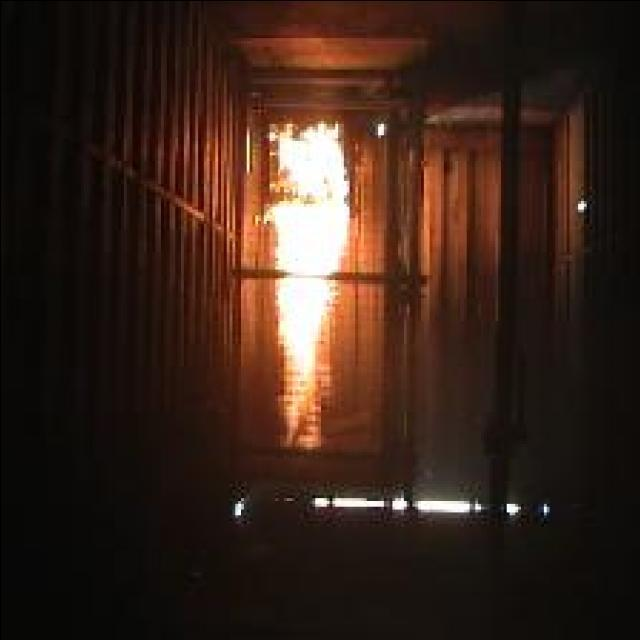Fire: (262, 122, 348, 448)
